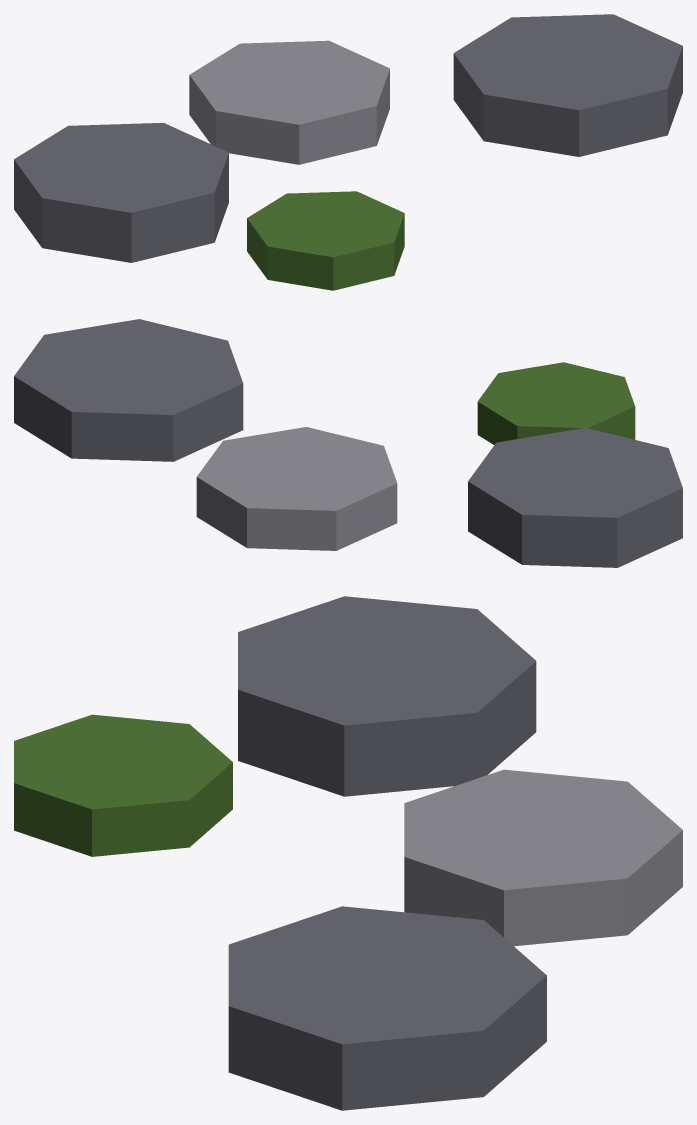
Rendered from stepping_stones.glb.
3 renders of one model, top to bottom at view 1: azimuth 30°, elevation 25°; view 2: azimuth 150°, elevation 25°; view 3: azimuth 270°, elevation 25°, orthographic. The views are drawn at different scales.
Parts seen in each view (by area): view 1: stepping_stones; view 2: stepping_stones; view 3: stepping_stones.
Boxes of the visible parts, x1,y1,x2,y2 form: stepping_stones: (14, 14, 682, 290); stepping_stones: (14, 319, 682, 567); stepping_stones: (14, 596, 682, 1110).
Bounding box in the file's own units: 2 × 0.15 × 1.28.
